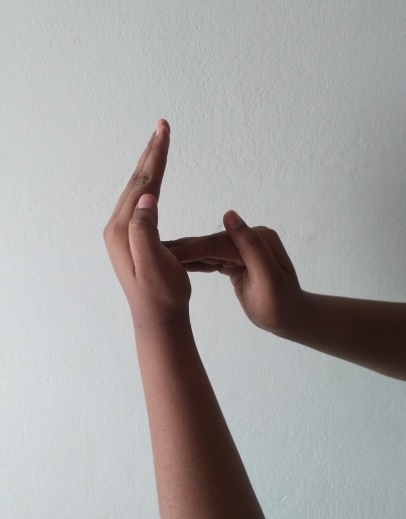ga: (100, 118, 304, 351)
